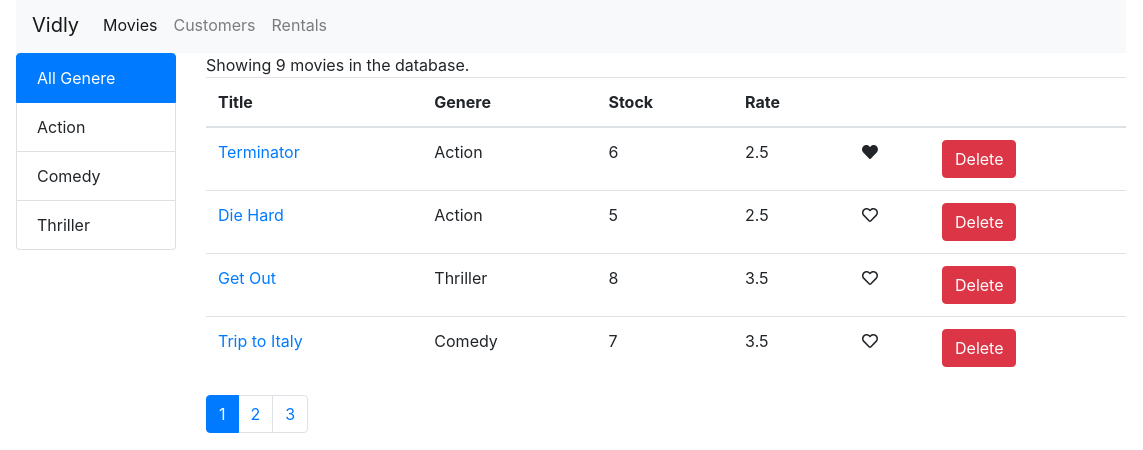
Scenario: should match after movie deletion
The width and height of the screenshot is (1143, 450).
Step 1. Click the button "Delete" in the row of "Terminator" → {"x": 979, "y": 159}, box [942,140,1016,178]
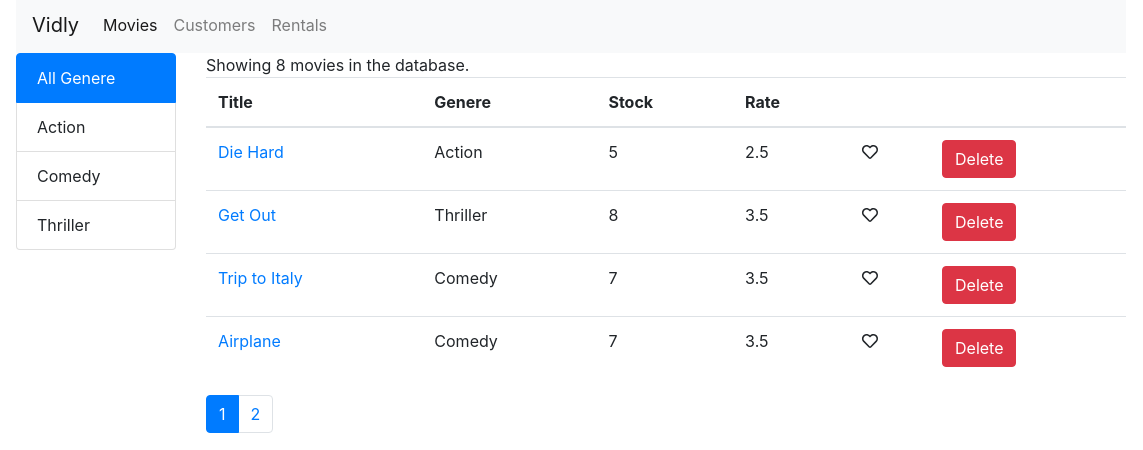
Check: the text "Showing 8 movies in the database." is shown, box [206,55,469,75]
